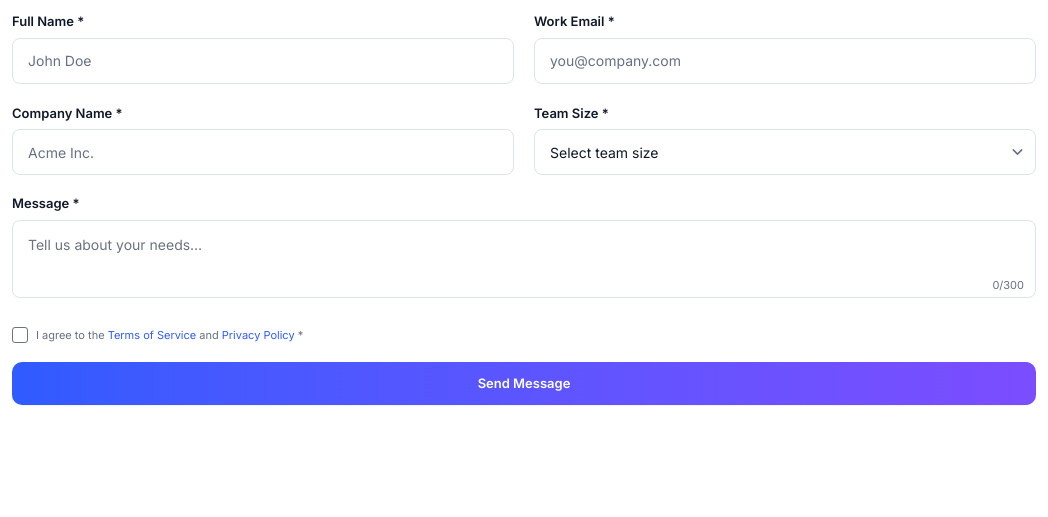
Test: ContactForm › validates name length, email format and message length
Type "Al" into the field labelled "Full Name *" at (263, 60), box [12, 38, 514, 84]
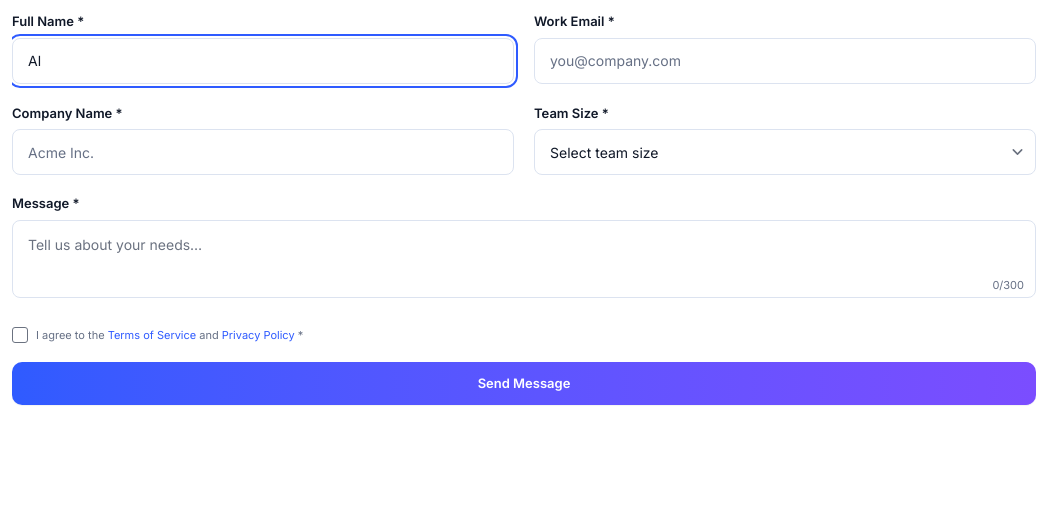
Type "not-an-email" into the field labelled "Work Email *" at (785, 60), box [534, 38, 1036, 84]
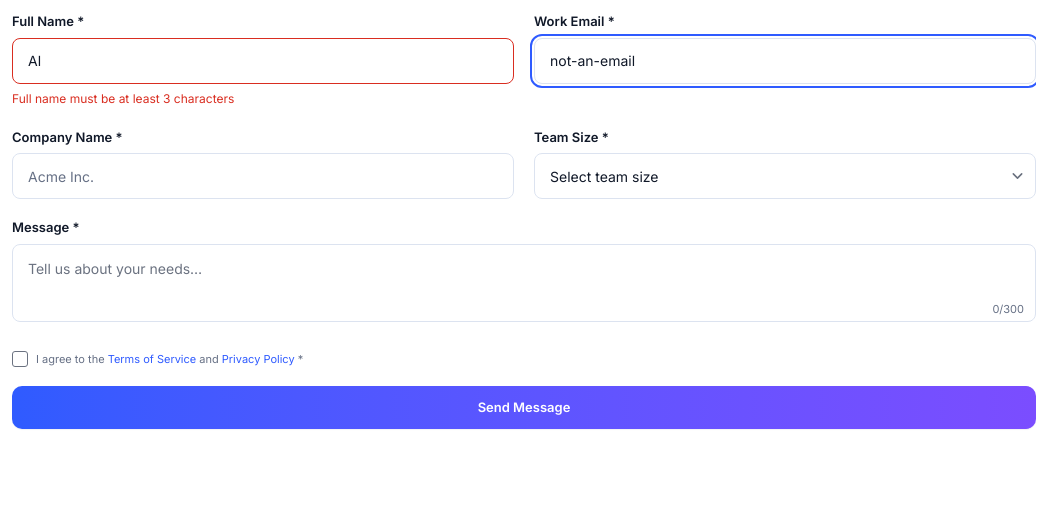
Type "too short" into the text box labelled "Message *" at (524, 282), box [12, 244, 1036, 322]
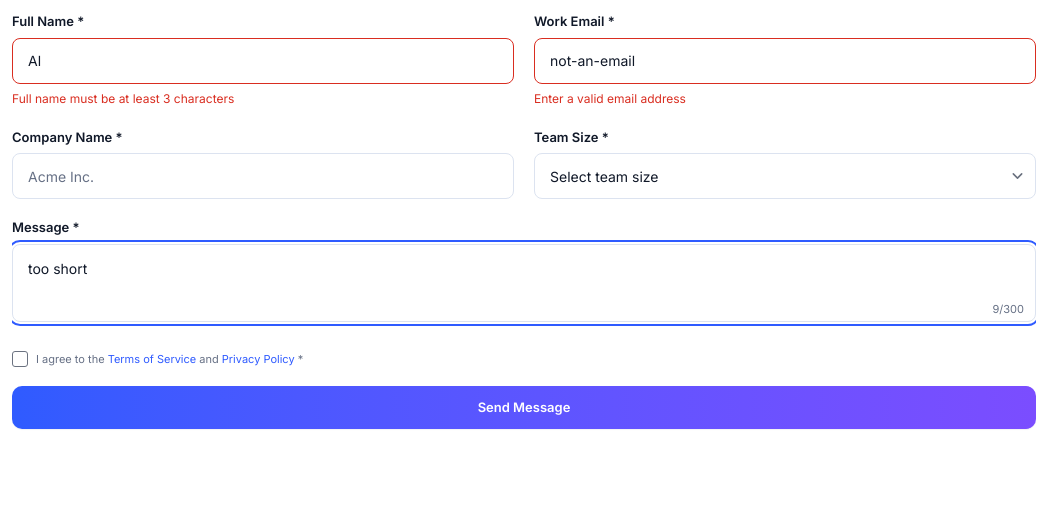
Click the button "Send Message" at (524, 408), box [12, 386, 1036, 429]
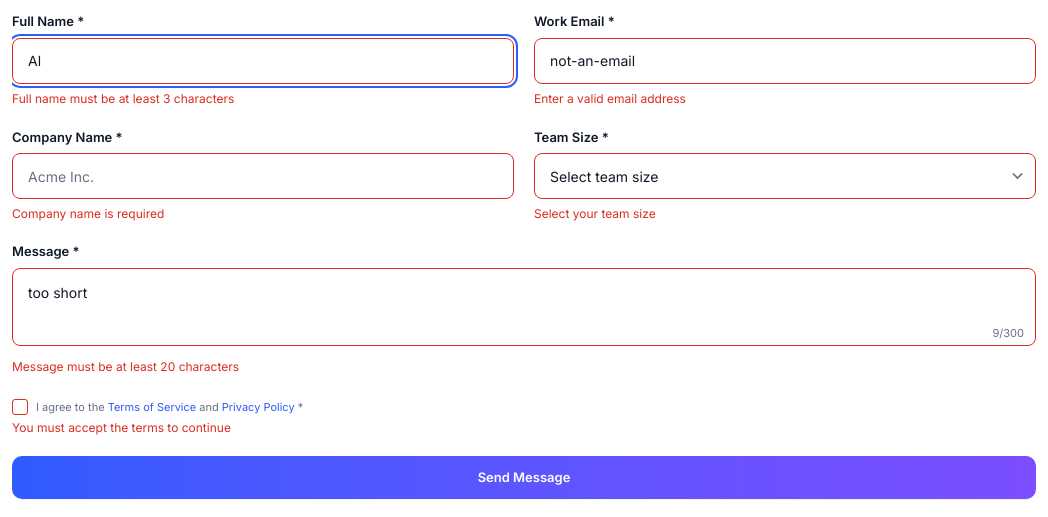
Check: the text "Full name must be at least 3 characters" is shown, box [12, 90, 234, 106]
Check: the text "Enter a valid email address" is shown, box [534, 90, 686, 106]
Check: the text "Message must be at least 20 characters" is shown, box [12, 358, 239, 374]
